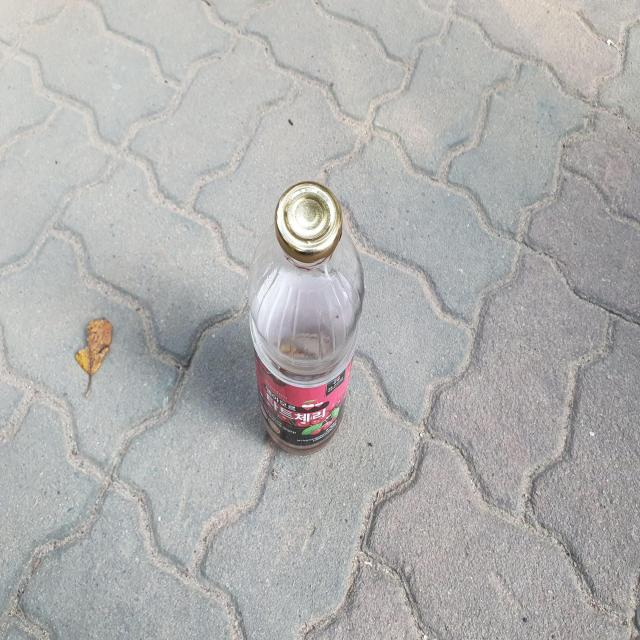glass: (248, 180, 364, 453)
